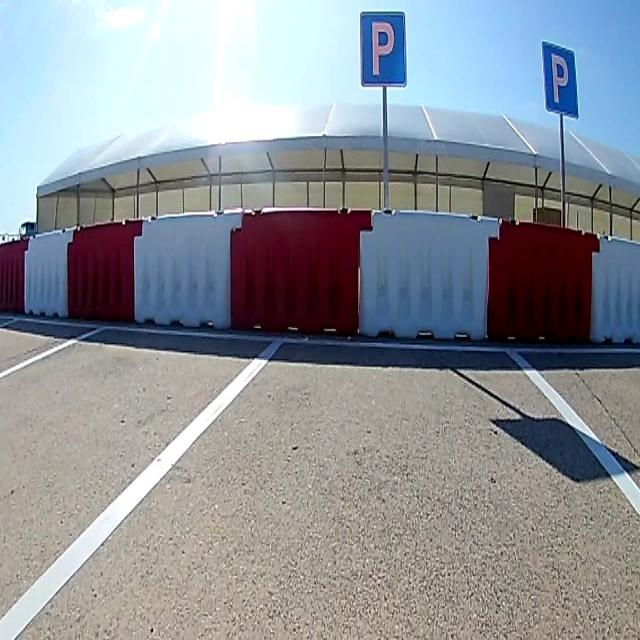park: (361, 14, 407, 86), (541, 41, 577, 116)
